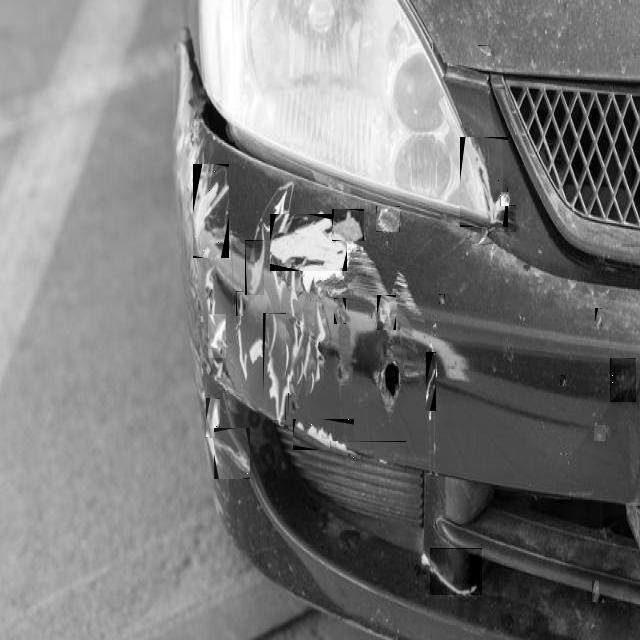Dent: (270, 214, 347, 271), (460, 137, 508, 227), (193, 164, 229, 258), (263, 313, 286, 420), (430, 548, 482, 595), (330, 441, 406, 473), (293, 419, 354, 450), (214, 428, 250, 479), (610, 358, 636, 402), (245, 240, 264, 295), (332, 209, 364, 241), (208, 314, 226, 358), (490, 205, 516, 232), (377, 295, 396, 330), (376, 206, 400, 232), (426, 352, 436, 411), (206, 398, 220, 438), (334, 298, 346, 324), (594, 425, 606, 441), (288, 393, 297, 413), (236, 291, 243, 316), (592, 580, 599, 602), (478, 45, 490, 56), (595, 308, 602, 326), (500, 192, 509, 206), (439, 294, 445, 304), (560, 375, 566, 385)
